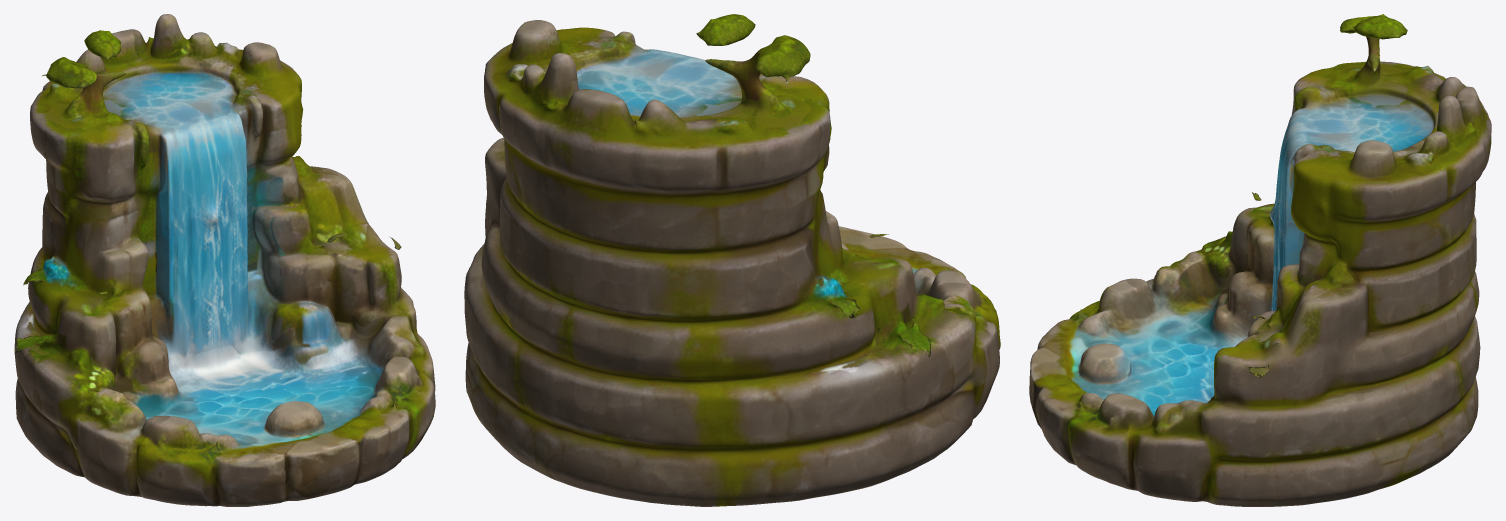
The model's file is waterfall-diorama.glb.
3 views of the same model, side by side, from view 1: azimuth 30°, elevation 25°; view 2: azimuth 150°, elevation 25°; view 3: azimuth 270°, elevation 25° (orthographic). The views are drawn at different scales.
Parts seen in each view (by area): view 1: model; view 2: model; view 3: model.
Boxes of the visible parts, bbox=[...] form: model: bbox=[14, 14, 435, 506]; model: bbox=[464, 14, 1000, 506]; model: bbox=[1029, 14, 1491, 506].
Size of the model in its own units: 1.79 by 1.69 by 1.89.
1 material, 1 textured.
